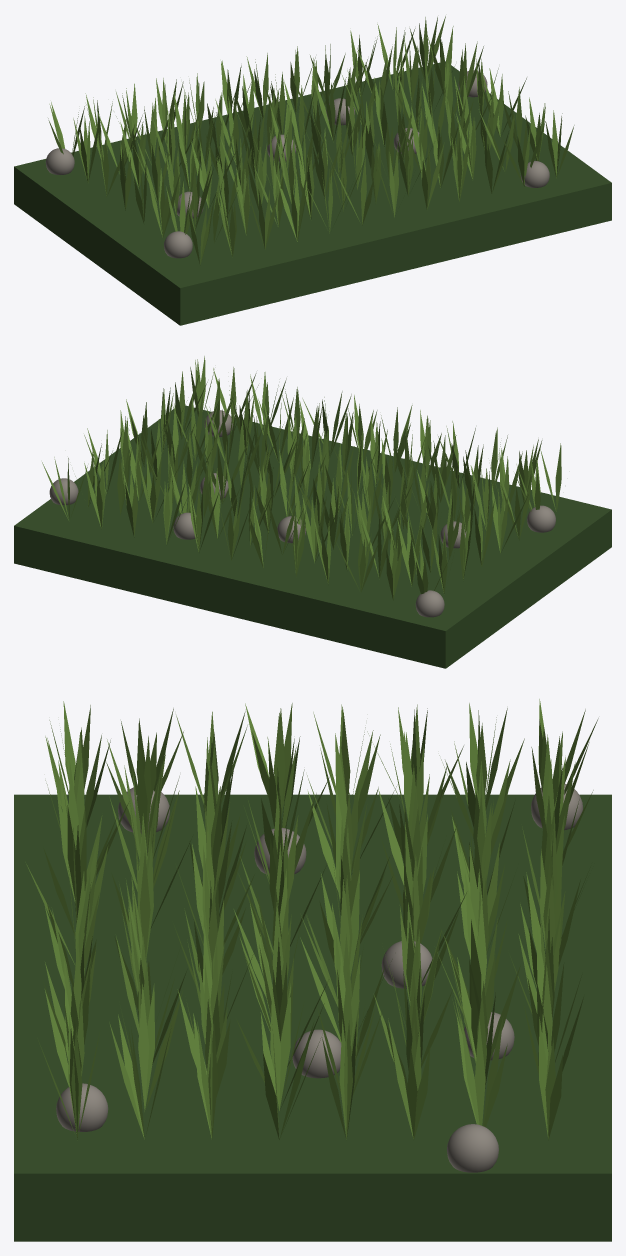
The model's file is dist_tufts.glb.
3 renders of one model, top to bottom at view 1: azimuth 30°, elevation 25°; view 2: azimuth 150°, elevation 25°; view 3: azimuth 270°, elevation 25°, orthographic. The views are drawn at different scales.
Visible parts, largest first — view 1: ground, grass, stone.001; view 2: ground, grass, stone.001; view 3: ground, grass, stone.001.
Part boxes in pixels (x1,y1,x2,y2): ground: (14,61,611,325); grass: (48,16,574,265); stone.001: (45,70,549,258); ground: (14,405,611,668); grass: (42,356,561,600); stone.001: (49,410,555,617); ground: (14,794,611,1241); grass: (25,699,598,1140); stone.001: (56,783,582,1172).
Size of the model in its own units: 0.2406 by 0.055 by 0.16.
